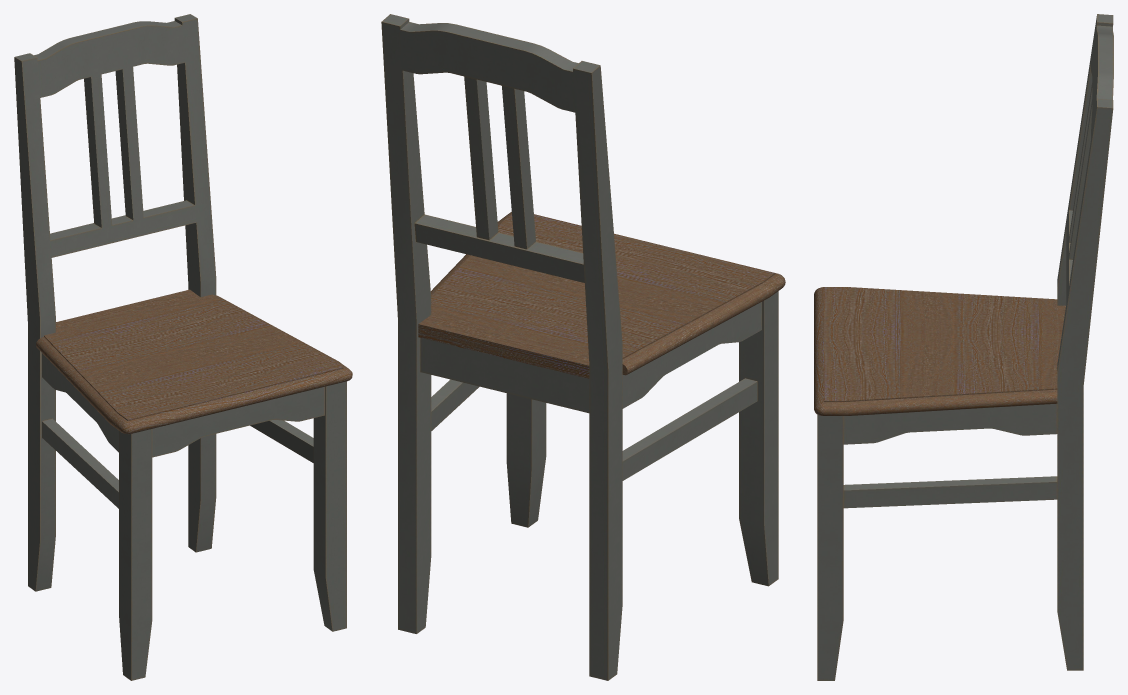
File: example129.glb
3 views of the same model, side by side, from view 1: azimuth 30°, elevation 25°; view 2: azimuth 150°, elevation 25°; view 3: azimuth 270°, elevation 25° (orthographic). The views are drawn at different scales.
Visible parts, largest first — view 1: Buffer Layer (×2); view 2: Buffer Layer (×2); view 3: Buffer Layer (×2).
Part boxes in pixels (x1=…): Buffer Layer (×2): x1=14, y1=14, x2=352, y2=680; Buffer Layer (×2): x1=381, y1=14, x2=785, y2=680; Buffer Layer (×2): x1=814, y1=14, x2=1113, y2=680.
Bounding box in the file's own units: 0.52 × 1.13 × 0.5391.
Materials: 2 (2 with a texture image).
